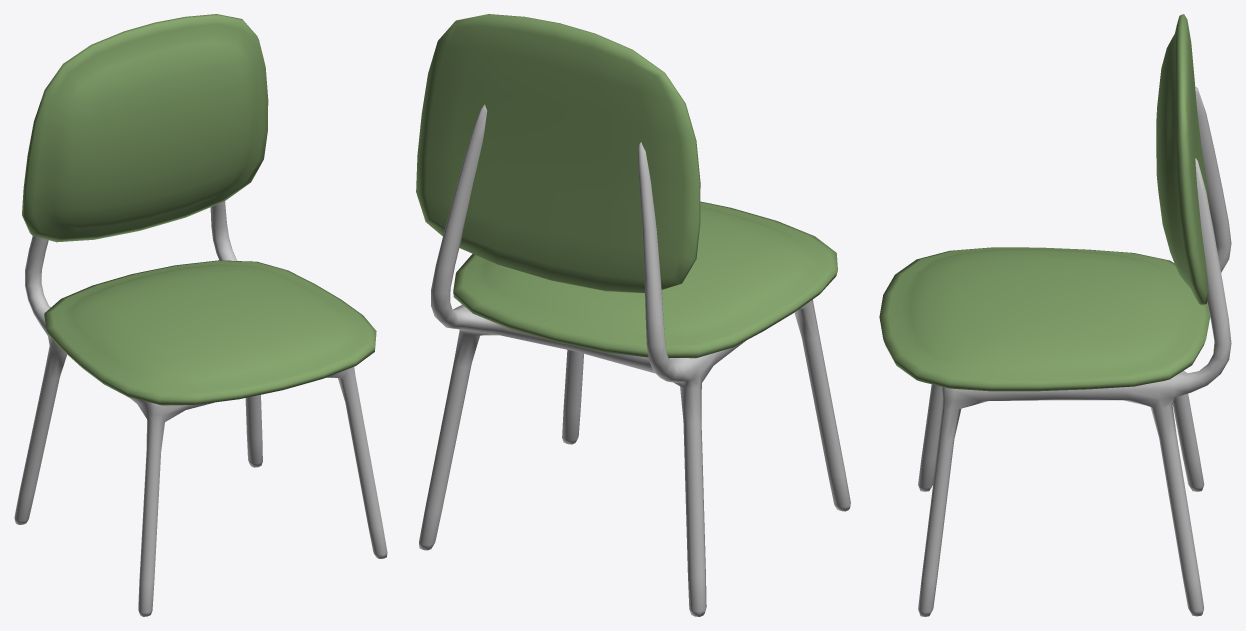
The model's file is chair_green.fbx.
3 views of the same model, side by side, from view 1: azimuth 30°, elevation 25°; view 2: azimuth 150°, elevation 25°; view 3: azimuth 270°, elevation 25° (orthographic). The views are drawn at different scales.
Visible parts, largest first — view 1: chair_green; view 2: chair_green; view 3: chair_green.
Part boxes in pixels (x1,y1,x2,y2): chair_green: [14, 14, 387, 616]; chair_green: [416, 14, 850, 616]; chair_green: [879, 14, 1231, 616].
Size of the model in its own units: 73.47 by 127 by 78.54.
